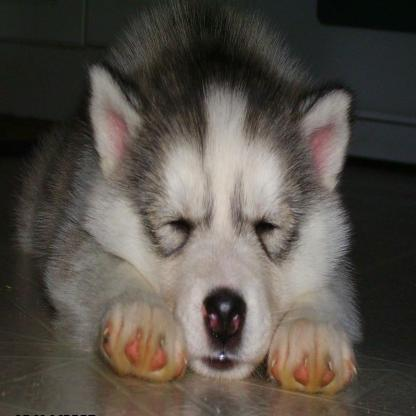dog: (20, 12, 362, 399)
